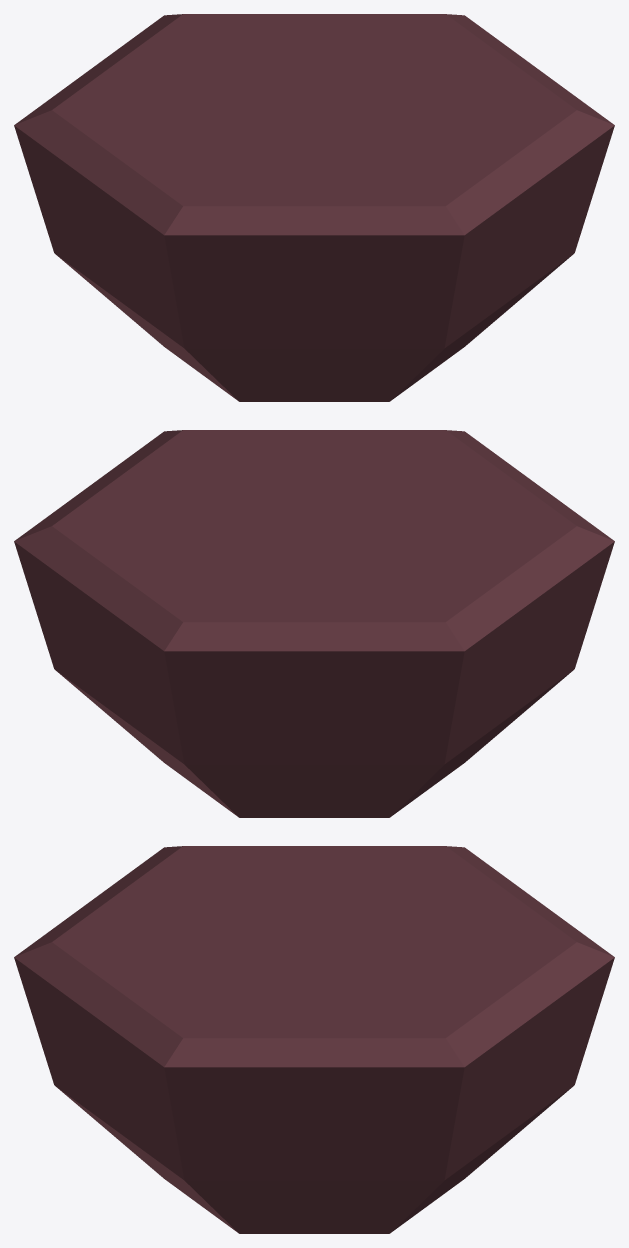
Rendered from food-egg-open.glb.
3 renders of one model, top to bottom at view 1: azimuth 30°, elevation 25°; view 2: azimuth 150°, elevation 25°; view 3: azimuth 270°, elevation 25°, orthographic.
Parts seen in each view (by area): view 1: egg-open; view 2: egg-open; view 3: egg-open.
Part boxes in pixels (left/top/right/bottom): egg-open: left=14, top=14, right=614, bottom=401; egg-open: left=14, top=430, right=614, bottom=817; egg-open: left=14, top=846, right=614, bottom=1233.
Bounding box in the file's own units: 0.1299 × 0.0746 × 0.15.
